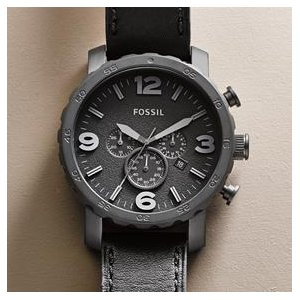clock: (58, 52, 239, 228)
